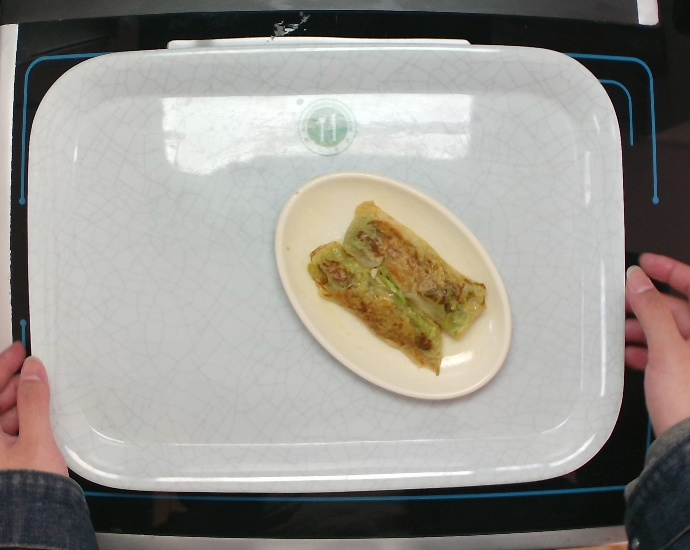JYsf-Tuo_Yuan_Wan: (269, 168, 517, 407)
